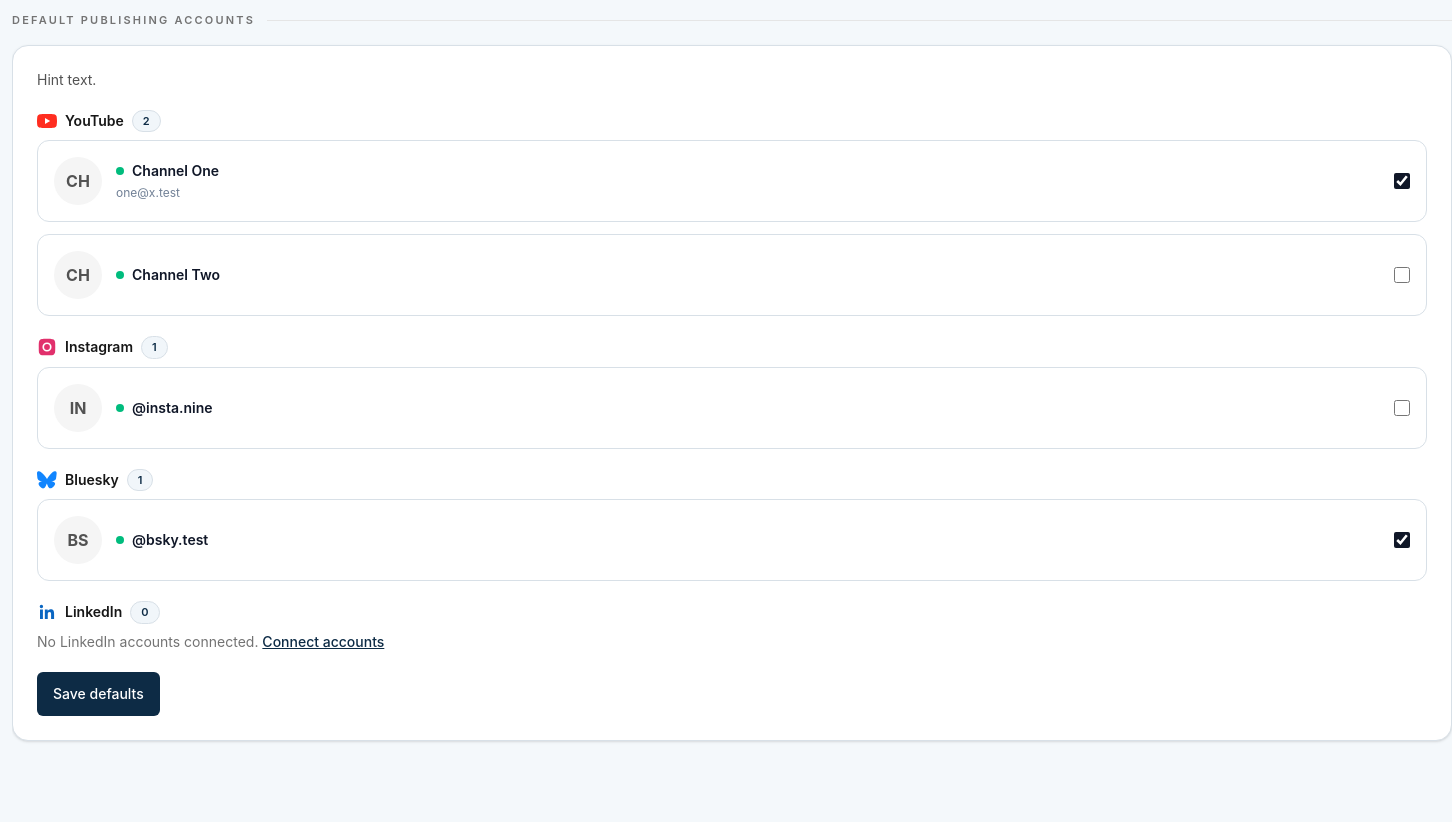
Test: PersonaPublishingAccountsSection › shows the server error message when saving fails
Click the button with test id "publishing-accounts-save": (98, 694) 37,672 -> 160,716
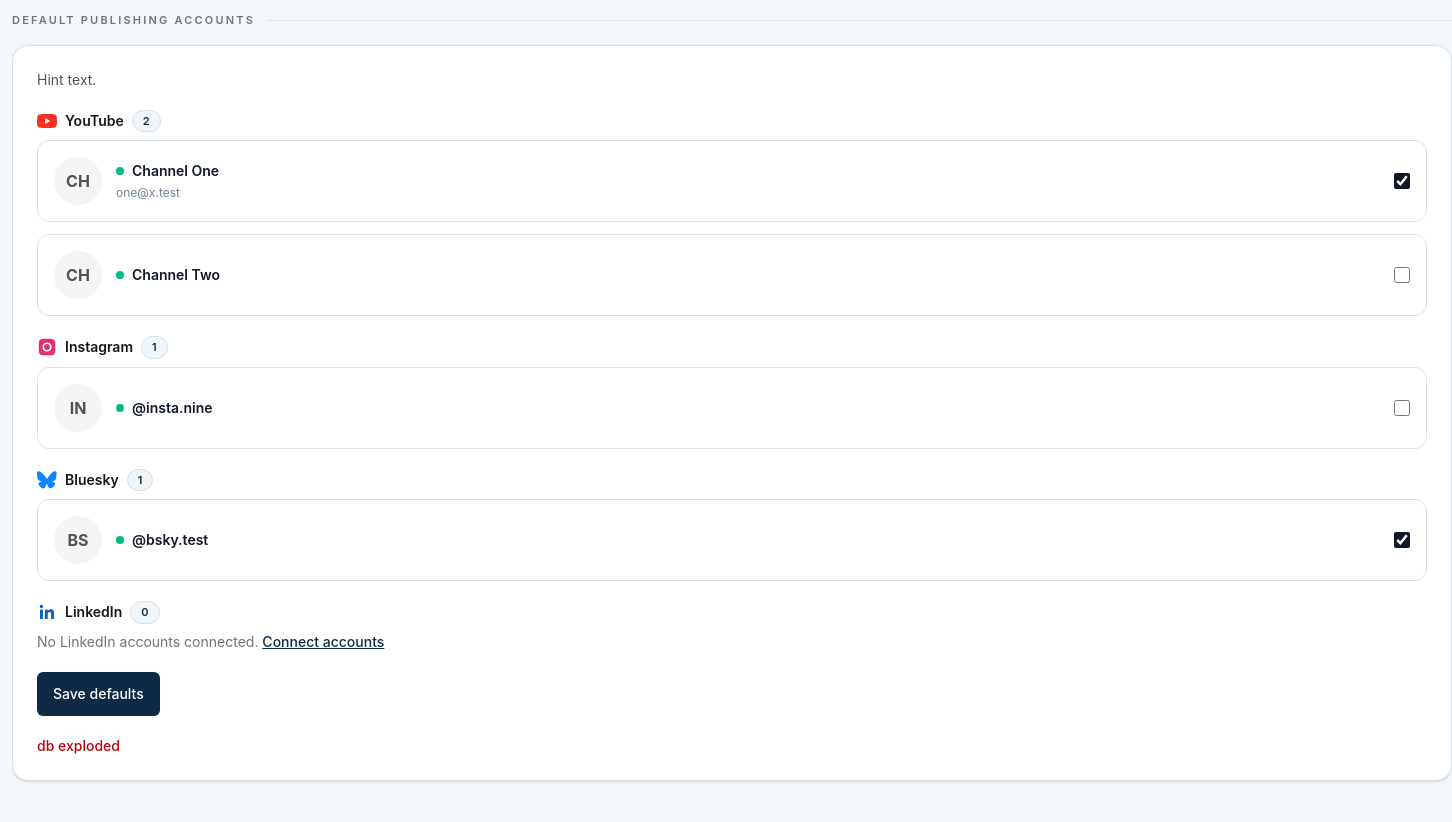
Expected: the text "db exploded" is shown, 37,736 -> 120,754
